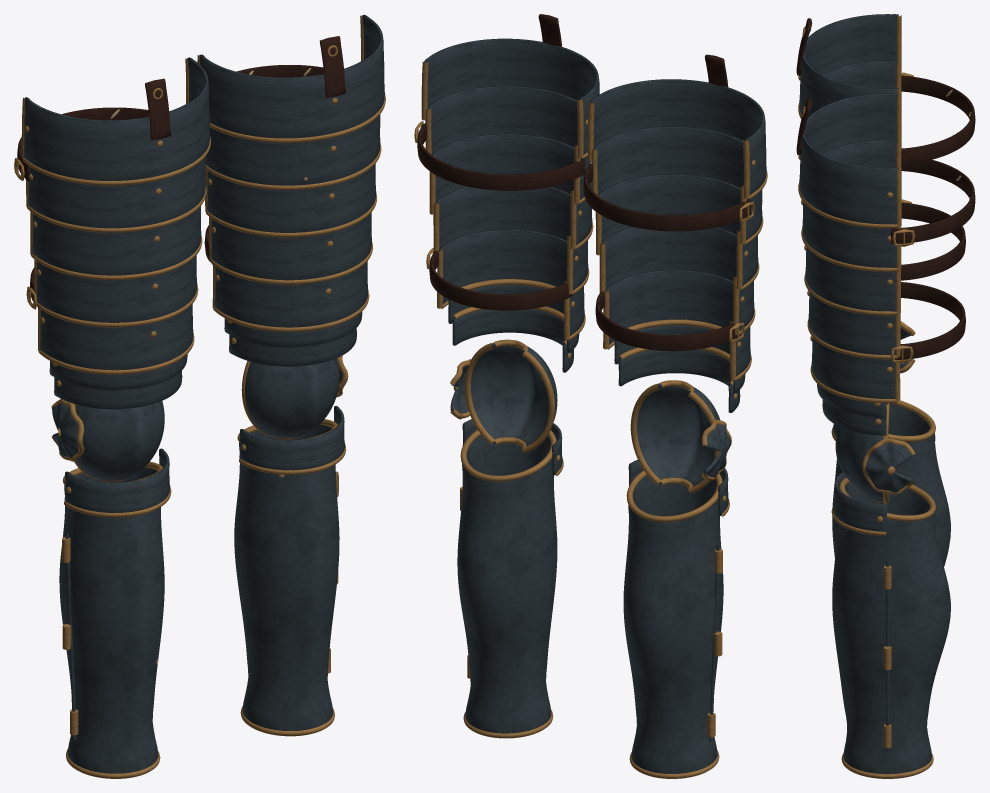
3 views of the same model, side by side, from view 1: azimuth 30°, elevation 25°; view 2: azimuth 150°, elevation 25°; view 3: azimuth 270°, elevation 25° (orthographic). The views are drawn at different scales.
Visible parts, largest first — view 1: blackened lamellar plate, aged alloy edge, oiled strap leather; view 2: blackened lamellar plate, aged alloy edge, oiled strap leather; view 3: blackened lamellar plate, oiled strap leather, aged alloy edge.
Part boxes in pixels (<box>): blackened lamellar plate: <box>23,15,384,773</box>; aged alloy edge: <box>14,15,385,778</box>; oiled strap leather: <box>17,36,345,309</box>; blackened lamellar plate: <box>424,38,766,773</box>; aged alloy edge: <box>414,61,767,778</box>; oiled strap leather: <box>417,14,751,351</box>; blackened lamellar plate: <box>799,14,950,774</box>; oiled strap leather: <box>796,18,975,360</box>; aged alloy edge: <box>798,15,935,778</box>.
Size of the model in its own units: 0.4219 by 0.8149 by 0.2001.
Materials: 5 (3 with a texture image).
